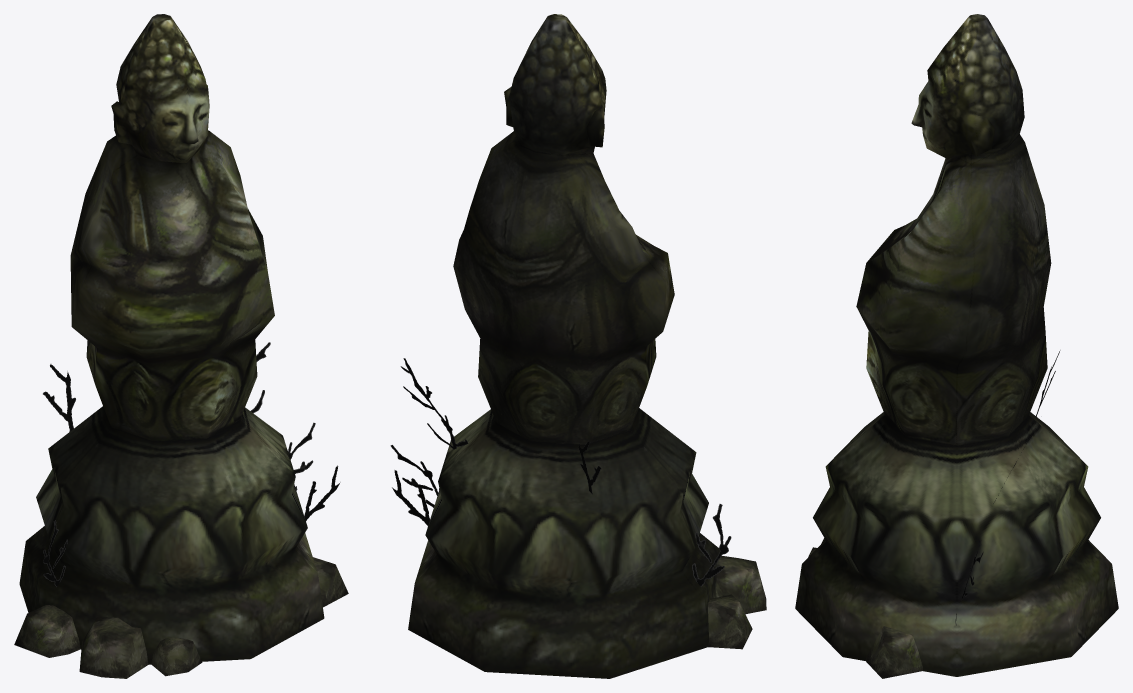
File: PRP_GraveStatueA.FBX
3 views of the same model, side by side, from view 1: azimuth 30°, elevation 25°; view 2: azimuth 150°, elevation 25°; view 3: azimuth 270°, elevation 25° (orthographic). The views are drawn at different scales.
Parts seen in each view (by area): view 1: PRP_GraveStatueA; view 2: PRP_GraveStatueA; view 3: PRP_GraveStatueA.
Part boxes in pixels (bbox=[...]): PRP_GraveStatueA: bbox=[14, 14, 348, 678]; PRP_GraveStatueA: bbox=[390, 14, 766, 678]; PRP_GraveStatueA: bbox=[795, 14, 1118, 678].
Size of the model in its own units: 211 by 343 by 170.
